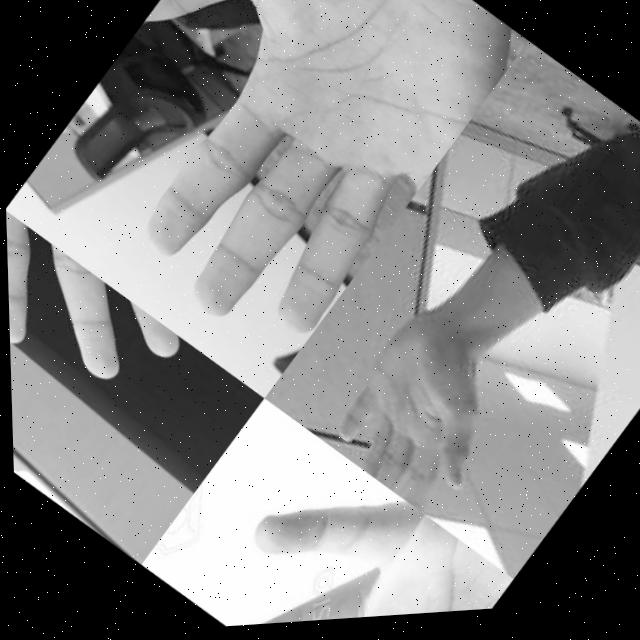hand: (19, 0, 535, 387), (188, 432, 510, 631), (5, 199, 210, 454), (308, 300, 532, 533)
